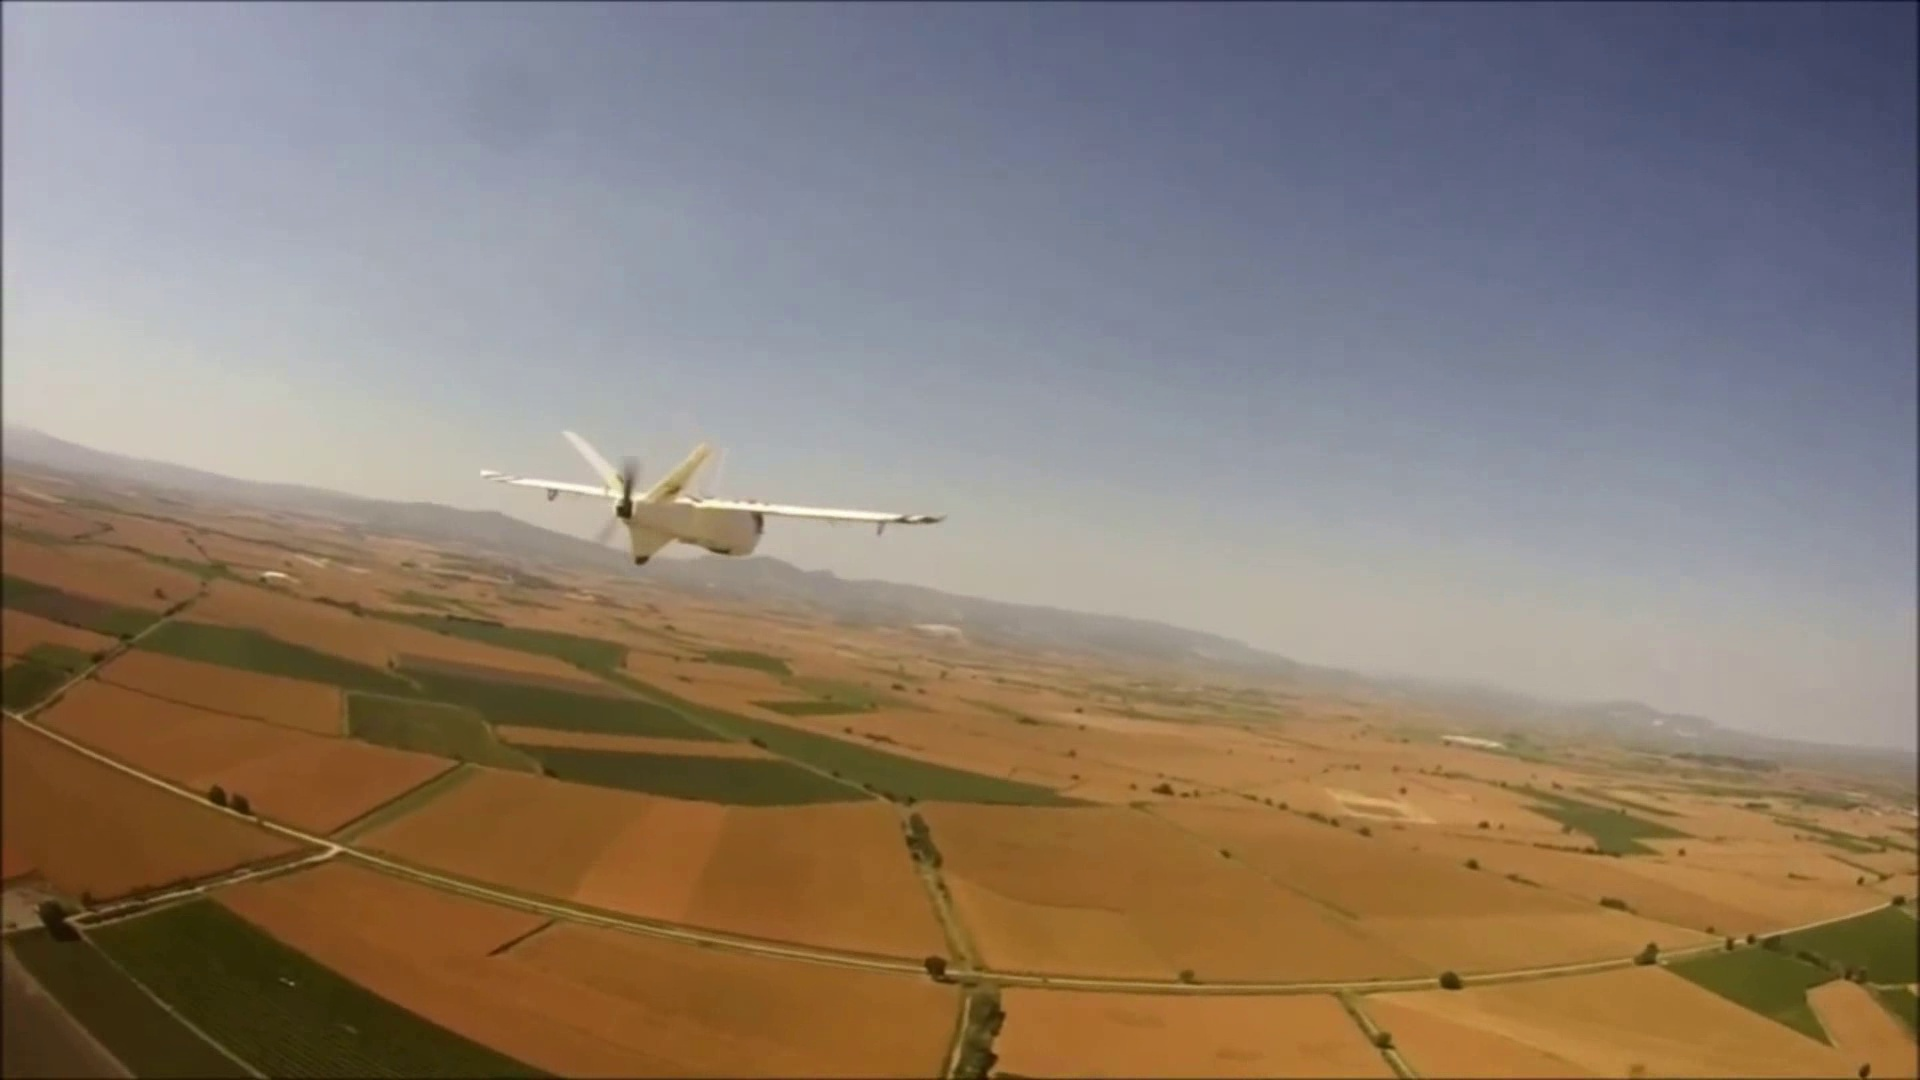airplane: (7, 421, 1865, 1069), (480, 429, 945, 567)
